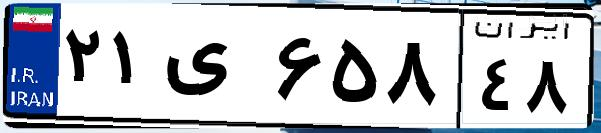1: (110, 28, 158, 98)
2: (57, 26, 110, 100)
4: (475, 38, 525, 113)
5: (330, 28, 385, 110)
6: (270, 28, 330, 110)
8: (385, 28, 445, 110), (525, 38, 570, 115)
ی: (158, 20, 270, 120)
